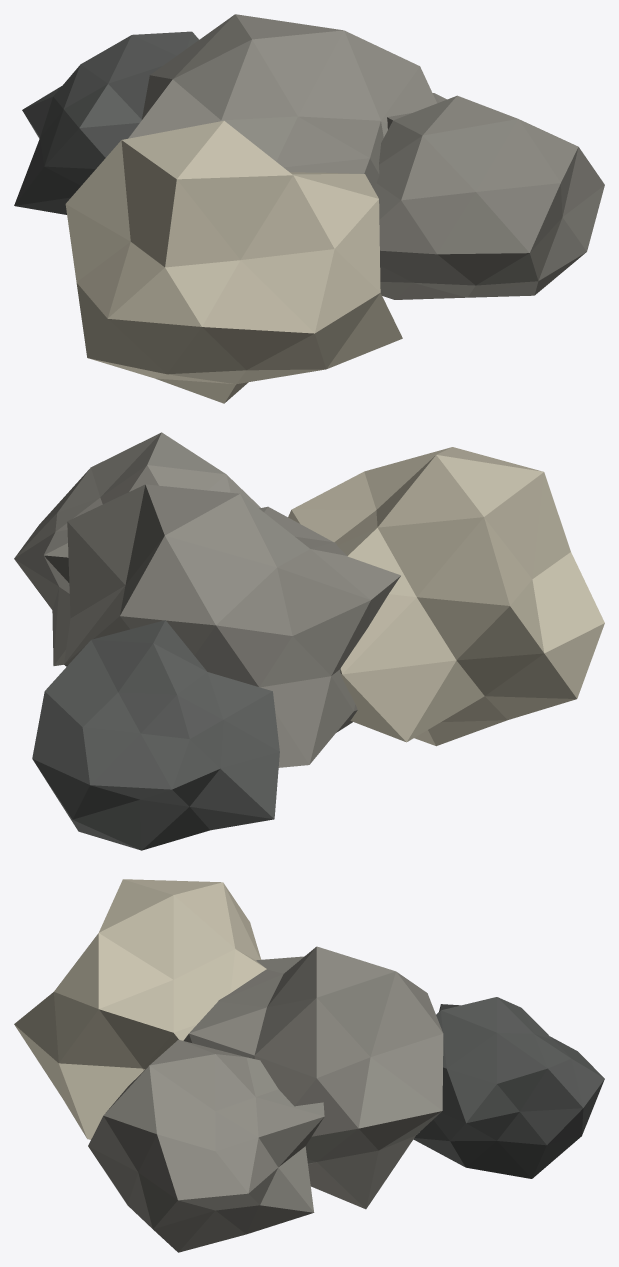
File: rock_4.glb
3 views of the same model, one above another, from view 1: azimuth 30°, elevation 25°; view 2: azimuth 150°, elevation 25°; view 3: azimuth 270°, elevation 25° (orthographic). The views are drawn at different scales.
Visible parts, largest first — view 1: rock_4; view 2: rock_4; view 3: rock_4.
Boxes of the visible parts, x1,y1,x2,y2 form: rock_4: [14, 14, 604, 403]; rock_4: [14, 432, 604, 850]; rock_4: [14, 879, 604, 1252].
Size of what is drawn, in the model's own units: 1.62 by 0.8352 by 1.79.
